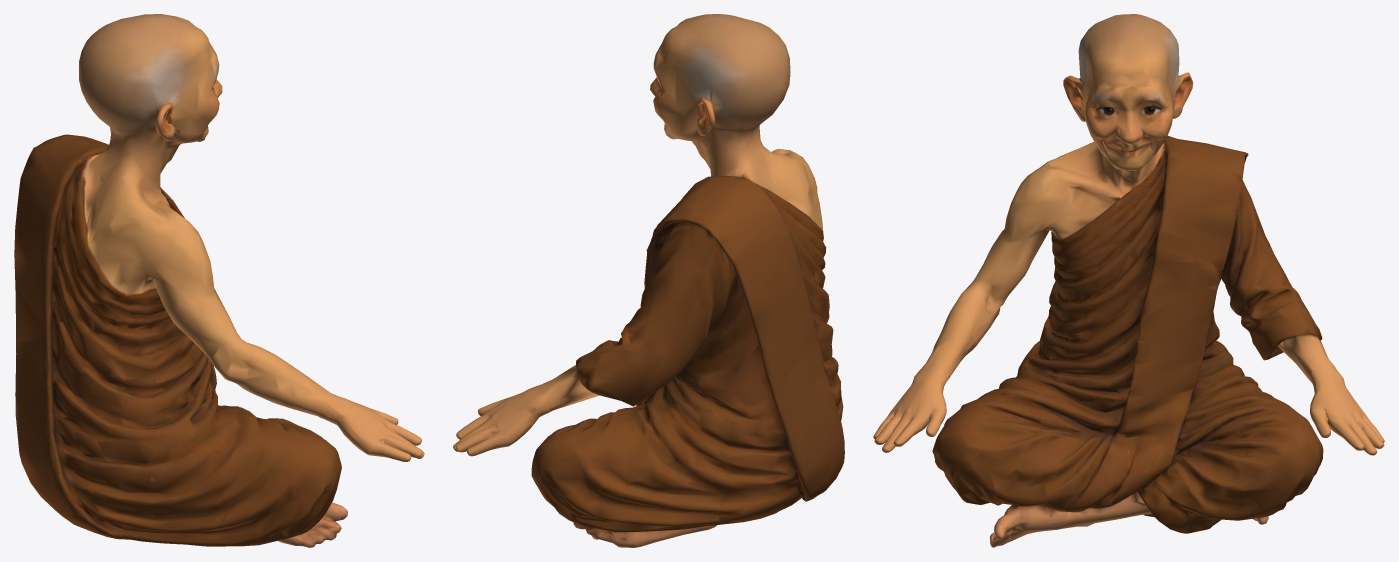
The model's file is monk-senior.glb.
3 views of the same model, side by side, from view 1: azimuth 30°, elevation 25°; view 2: azimuth 150°, elevation 25°; view 3: azimuth 270°, elevation 25° (orthographic). The views are drawn at different scales.
Visible parts, largest first — view 1: tripo_node_dd42ecfa-8640-494b-b948-06d48b9e2599; view 2: tripo_node_dd42ecfa-8640-494b-b948-06d48b9e2599; view 3: tripo_node_dd42ecfa-8640-494b-b948-06d48b9e2599.
Part boxes in pixels (x1,y1,x2,y2): tripo_node_dd42ecfa-8640-494b-b948-06d48b9e2599: (14,14,424,547); tripo_node_dd42ecfa-8640-494b-b948-06d48b9e2599: (453,14,844,547); tripo_node_dd42ecfa-8640-494b-b948-06d48b9e2599: (873,14,1384,547).
Size of the model in its own units: 0.5433 by 0.9994 by 0.969.
1 material, 1 textured.
